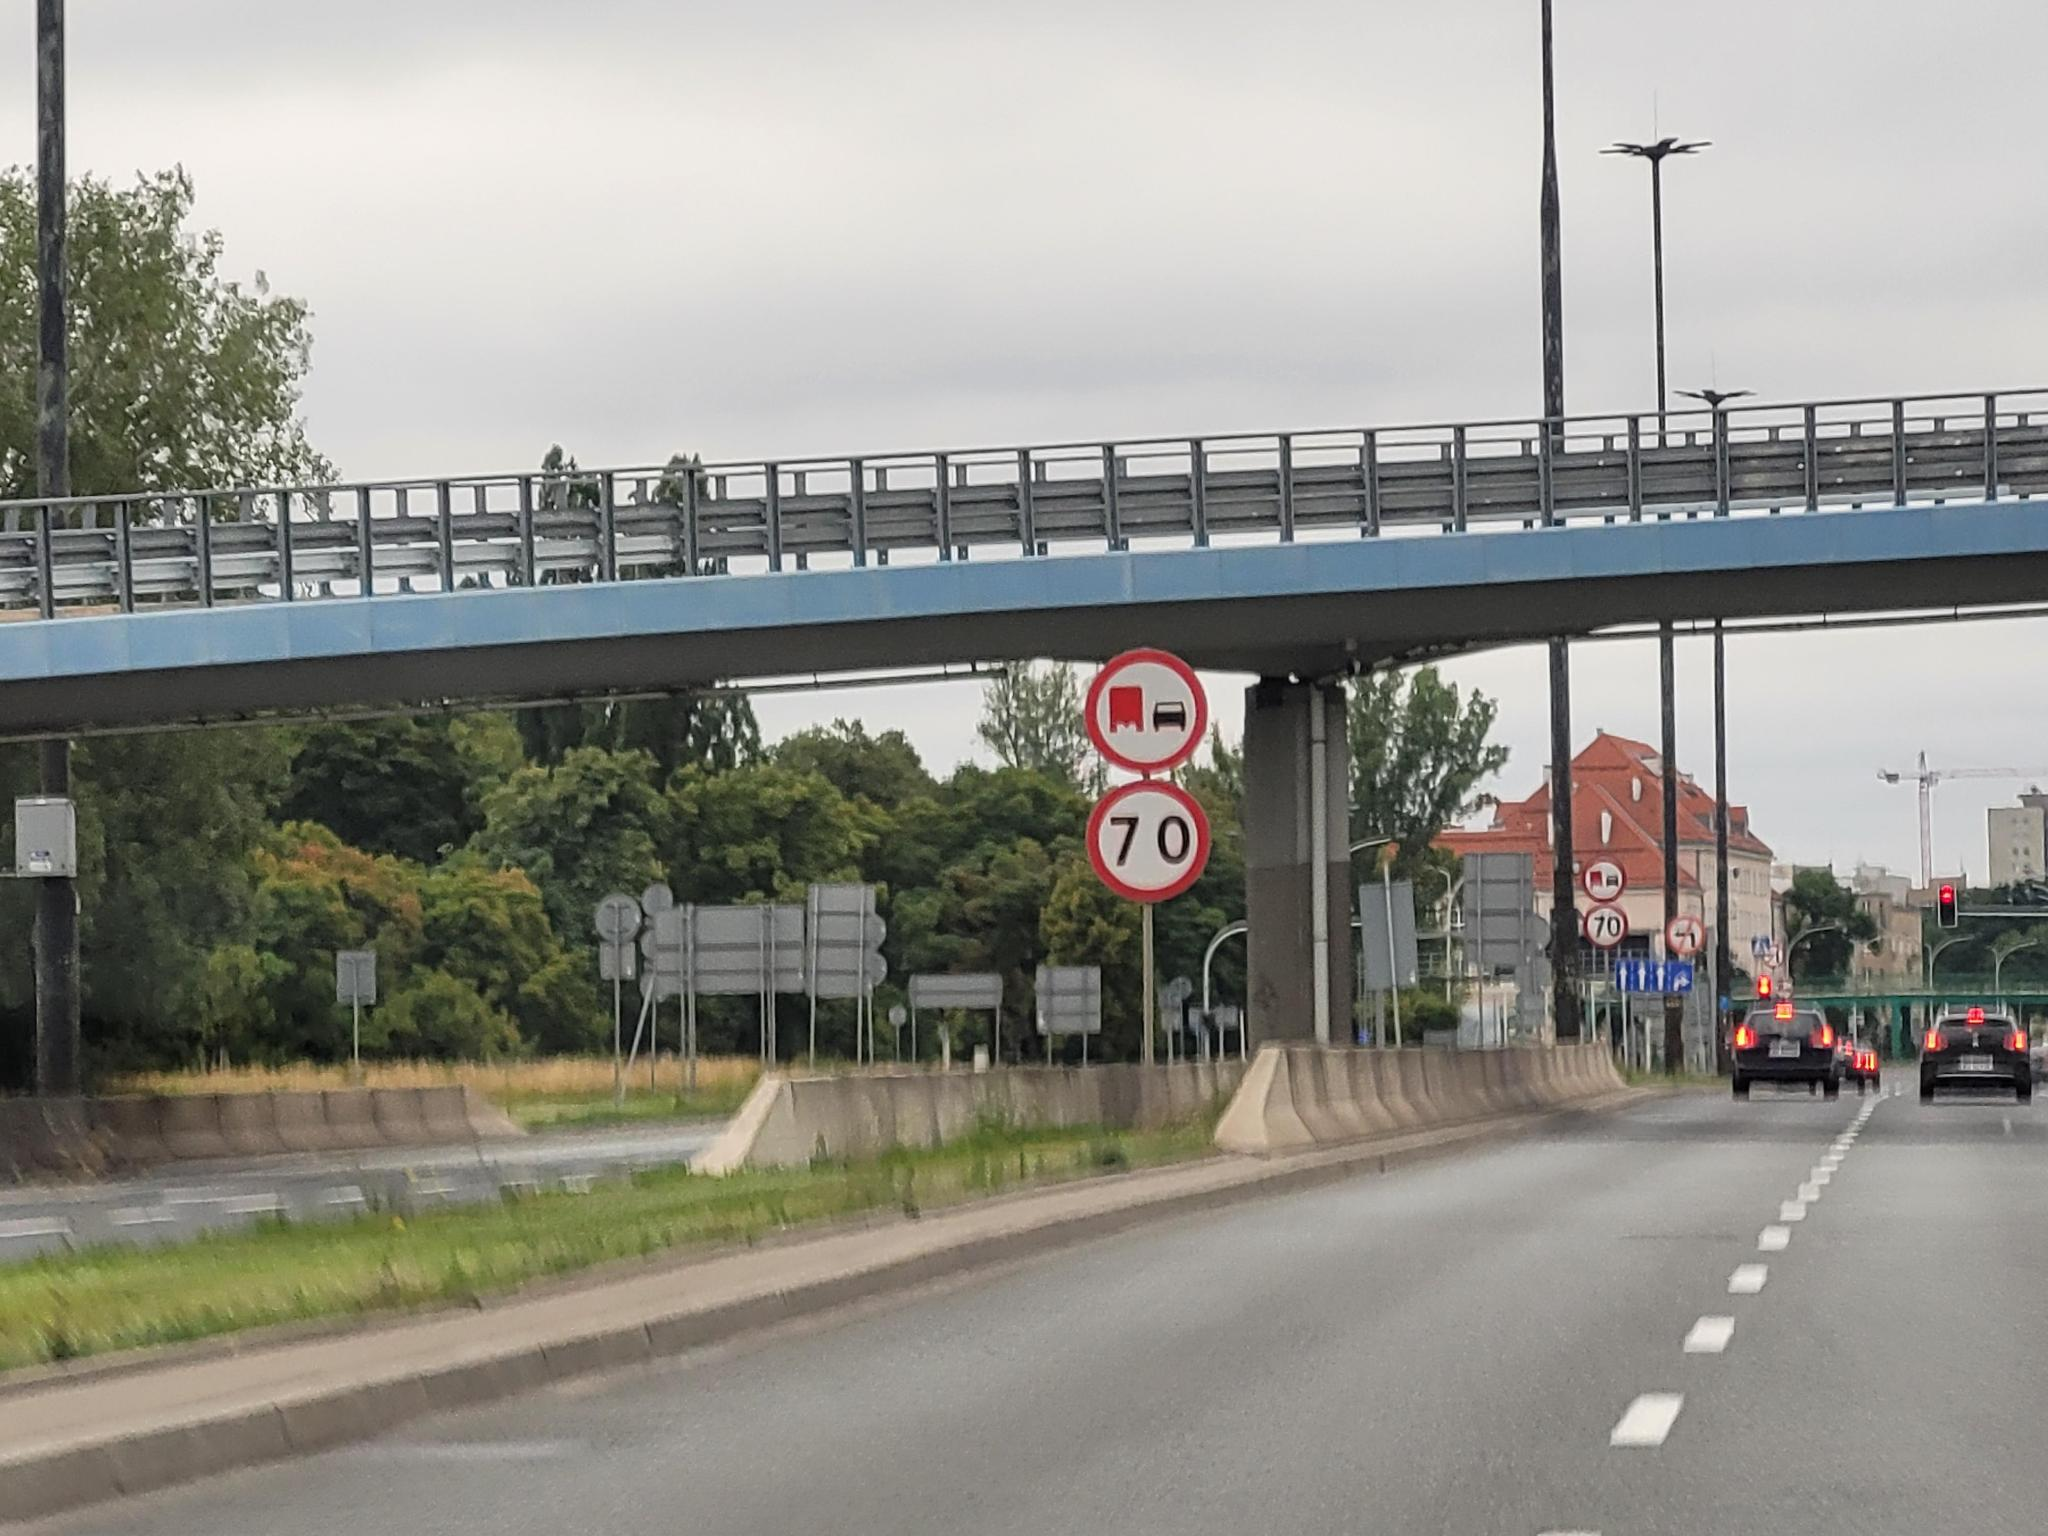information: (1753, 937, 1769, 957)
other: (1616, 963, 1693, 991)
prohibitory: (1084, 647, 1208, 774), (1087, 779, 1209, 902), (1582, 854, 1629, 902), (1584, 904, 1629, 949), (1666, 915, 1705, 955)
